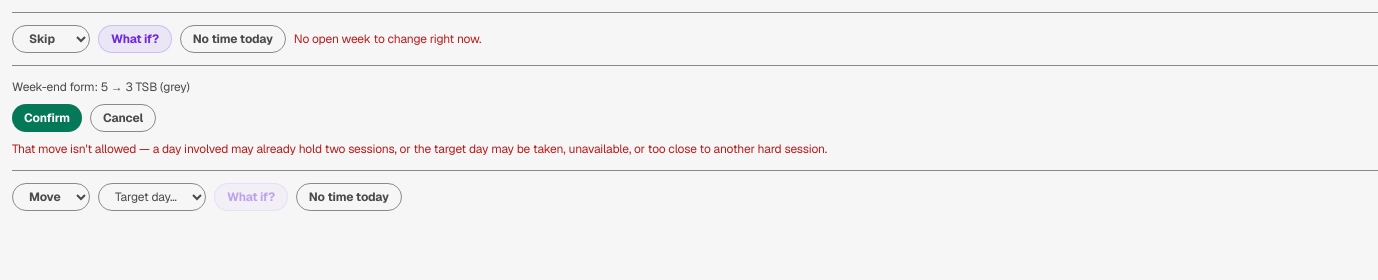
Test: DayActions error rendering (interaction) › renders the caveat when the projection is capped at plan end
Select "Wed" in the dropdown named "Target day": point(152, 197) [98,183,206,211]
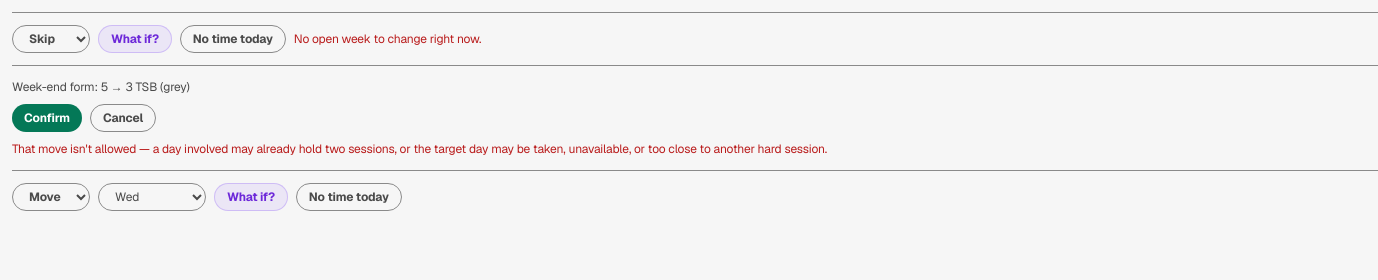
Click the 2nd button "What if?": point(251, 197) [214,183,288,211]
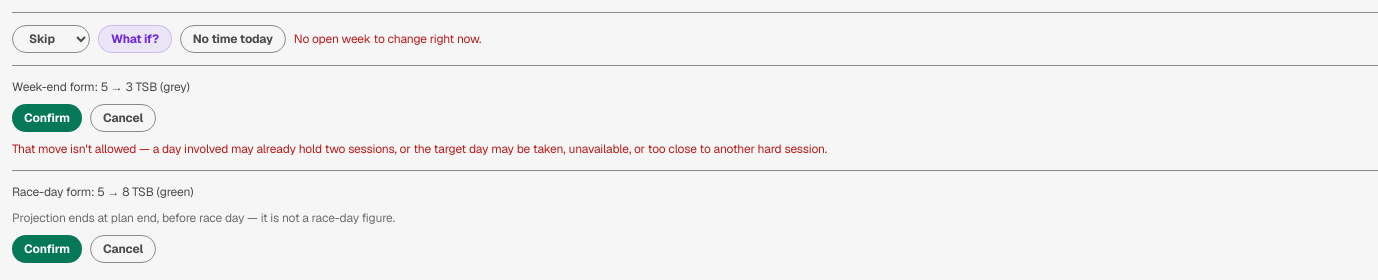
Result: the text "plan end" is shown at [12,210,395,226]
